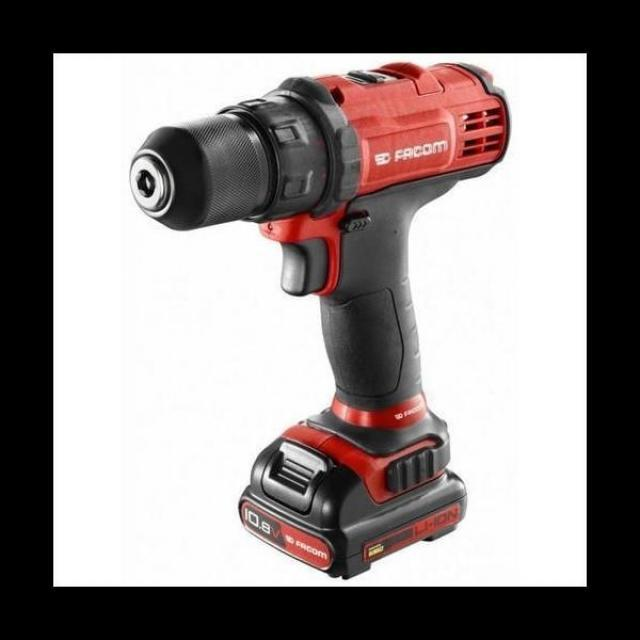drill: (128, 61, 512, 580)
